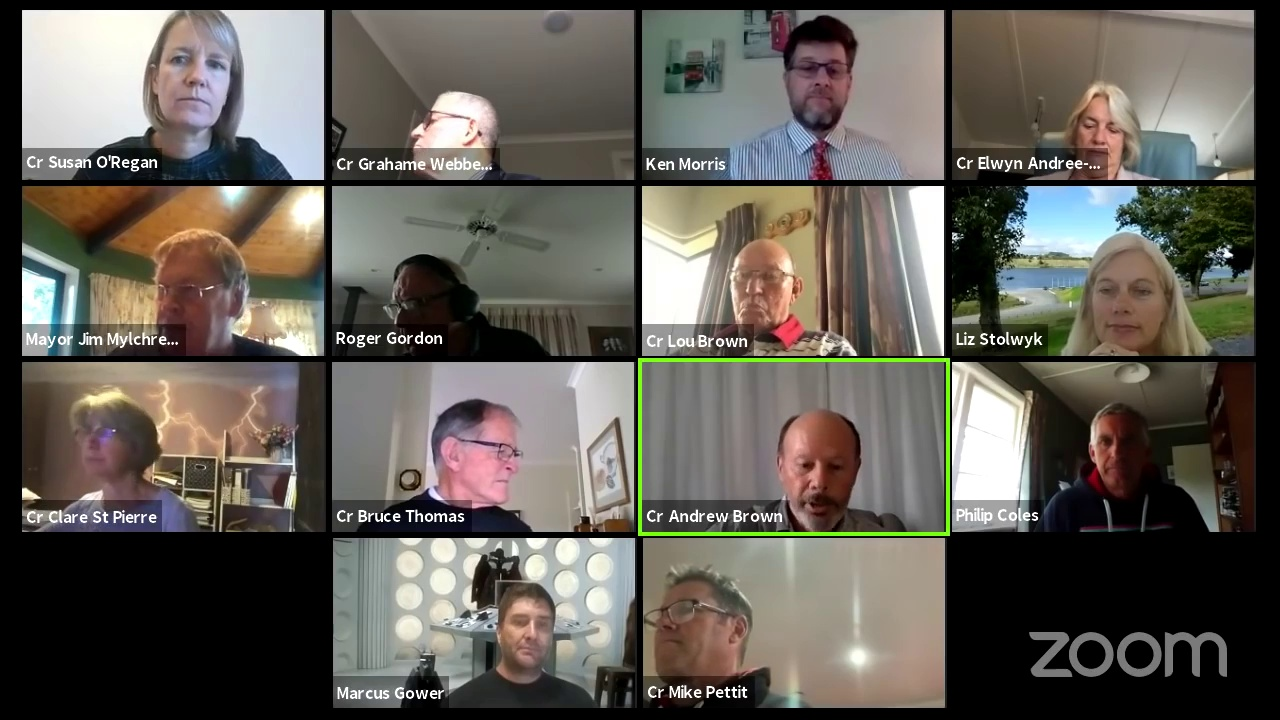Distracted: (654, 566, 753, 678), (425, 403, 526, 512), (774, 415, 869, 530), (72, 391, 153, 480), (388, 257, 471, 341), (411, 88, 497, 165), (1071, 91, 1134, 171)
Not Distracted: (145, 17, 245, 125), (771, 26, 863, 137), (1072, 246, 1166, 338), (151, 244, 229, 337), (719, 247, 794, 328), (1081, 410, 1152, 485), (502, 584, 560, 671)
